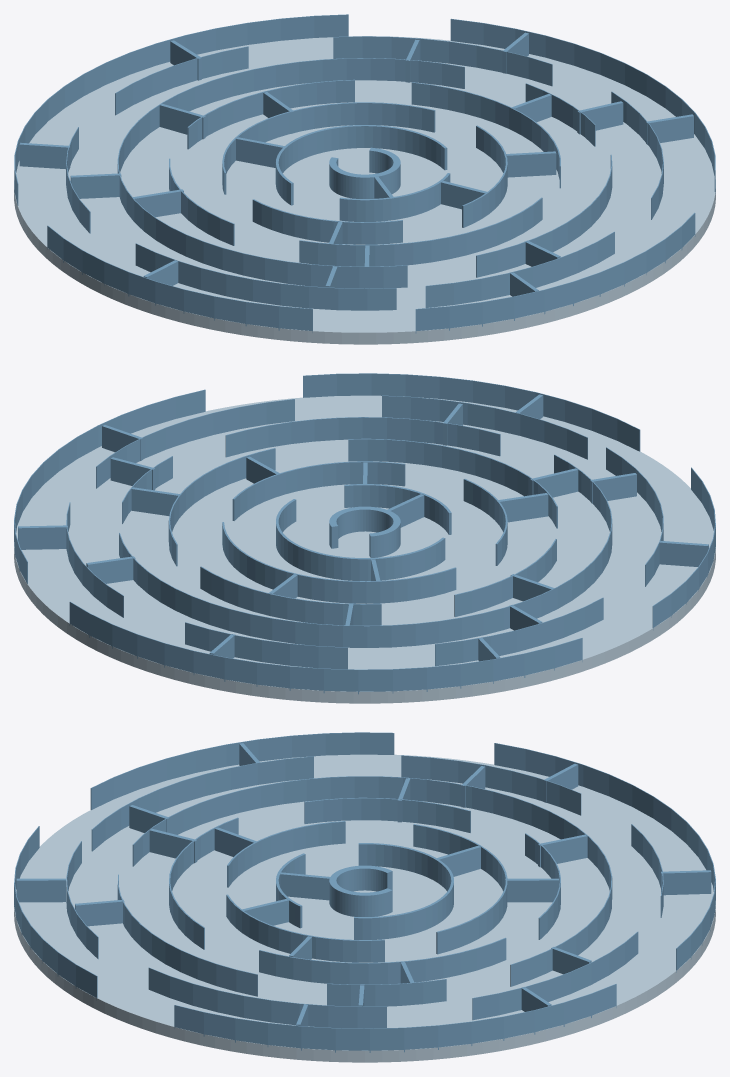
The model's file is maze.fbx.
The picture shows the model from 3 angles, top to bottom: view 1: azimuth 30°, elevation 25°; view 2: azimuth 150°, elevation 25°; view 3: azimuth 270°, elevation 25°; orthographic projection.
Visible parts, largest first — view 1: Cylinder, Cylinder.007, Cylinder.006, Cylinder.005, Cylinder.004, Cylinder.003, Cylinder.002, Cylinder.001, Cube.020, Cube.011, Cube.010, Cube.002 (+10 smaller); view 2: Cylinder, Cylinder.007, Cylinder.005, Cylinder.006, Cylinder.004, Cylinder.003, Cylinder.002, Cylinder.001, Cube.005, Cube.015, Cube.012, Cube.013 (+8 smaller); view 3: Cylinder, Cylinder.007, Cylinder.006, Cylinder.005, Cylinder.004, Cylinder.003, Cylinder.002, Cylinder.001, Cube.014, Cube.017, Cube.009, Cube (+9 smaller).
Boxes of the visible parts, x1=… form: Cylinder: x1=14, y1=36, x2=715, y2=344; Cylinder.007: x1=14, y1=14, x2=715, y2=333; Cylinder.006: x1=66, y1=36, x2=663, y2=310; Cylinder.005: x1=117, y1=58, x2=612, y2=288; Cylinder.004: x1=169, y1=79, x2=560, y2=266; Cylinder.003: x1=222, y1=102, x2=507, y2=244; Cylinder.002: x1=275, y1=125, x2=450, y2=221; Cylinder.001: x1=329, y1=147, x2=400, y2=198; Cube.020: x1=506, y1=151, x2=556, y2=177; Cube.011: x1=19, y1=142, x2=70, y2=169; Cube.010: x1=70, y1=173, x2=121, y2=198; Cube.002: x1=236, y1=137, x2=284, y2=167; Cylinder: x1=14, y1=395, x2=715, y2=703; Cylinder.007: x1=14, y1=373, x2=715, y2=694; Cylinder.005: x1=119, y1=417, x2=612, y2=647; Cylinder.006: x1=66, y1=395, x2=663, y2=669; Cylinder.004: x1=168, y1=438, x2=557, y2=625; Cylinder.003: x1=222, y1=461, x2=507, y2=603; Cylinder.002: x1=276, y1=484, x2=451, y2=581; Cylinder.001: x1=329, y1=506, x2=400, y2=557; Cube.005: x1=18, y1=525, x2=67, y2=549; Cube.015: x1=659, y1=541, x2=708, y2=566; Cube.012: x1=498, y1=493, x2=548, y2=522; Cube.013: x1=131, y1=487, x2=179, y2=515; Cylinder: x1=14, y1=754, x2=715, y2=1062; Cylinder.007: x1=14, y1=732, x2=715, y2=1052; Cylinder.006: x1=66, y1=755, x2=663, y2=1028; Cylinder.005: x1=117, y1=776, x2=612, y2=1006; Cylinder.004: x1=169, y1=797, x2=560, y2=984; Cylinder.003: x1=226, y1=821, x2=507, y2=962; Cylinder.002: x1=276, y1=843, x2=453, y2=939; Cylinder.001: x1=329, y1=865, x2=392, y2=916; Cube.014: x1=505, y1=878, x2=558, y2=902; Cube.017: x1=16, y1=878, x2=65, y2=902; Cube.009: x1=661, y1=870, x2=711, y2=895; Cube: x1=280, y1=872, x2=329, y2=900.
Bounding box in the file's own units: 1181 × 62.51 × 1181.
